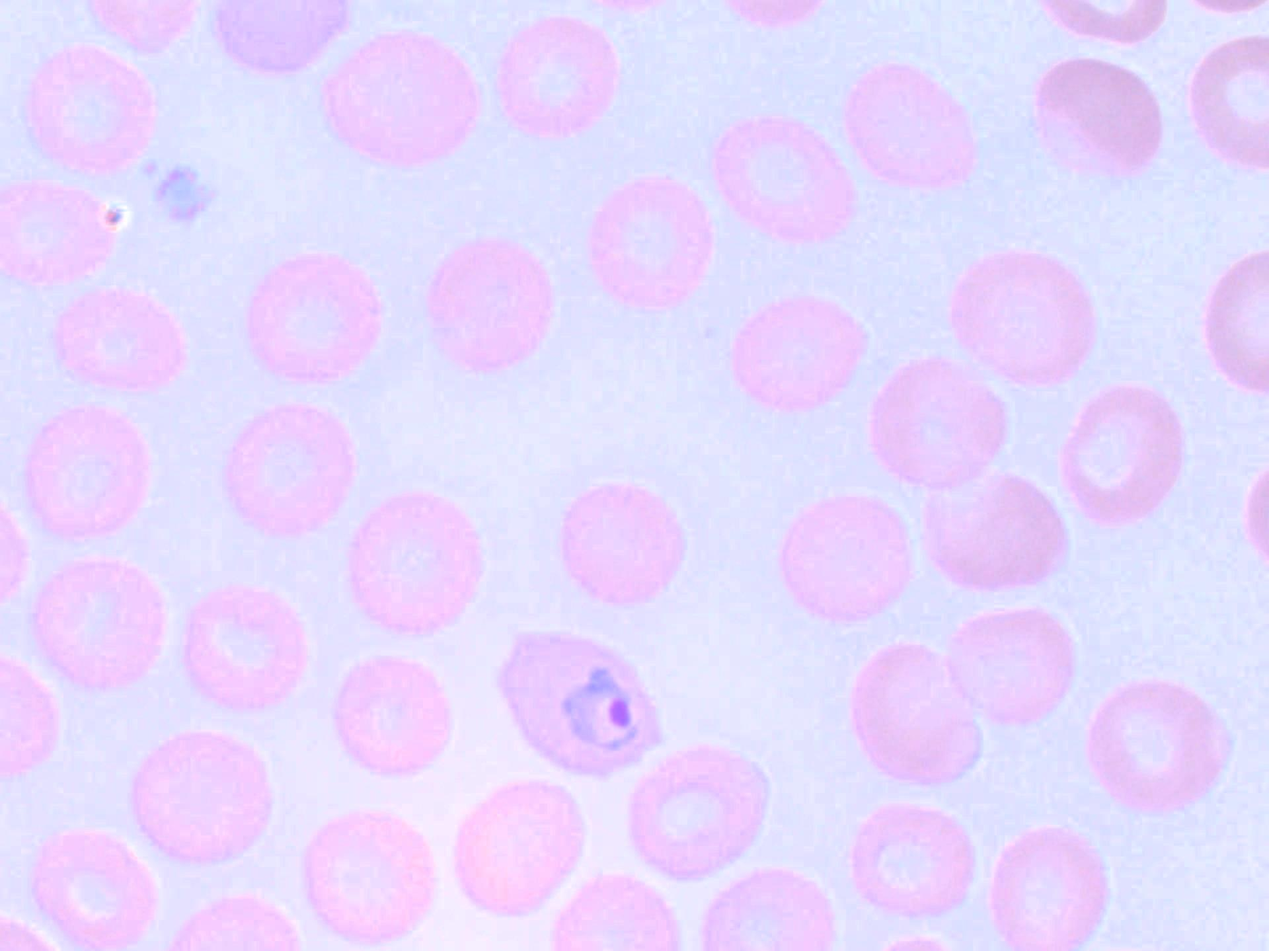Infected: (498, 628, 664, 779)
Uninfected: (326, 32, 480, 165), (872, 344, 1012, 484), (347, 492, 485, 632), (130, 730, 272, 864), (1082, 679, 1223, 813), (849, 643, 982, 784), (951, 250, 1091, 382), (30, 556, 166, 691), (712, 115, 857, 240), (629, 749, 767, 880), (582, 177, 715, 311), (23, 404, 152, 539), (1059, 386, 1186, 522), (227, 403, 357, 535), (302, 811, 434, 940), (426, 238, 553, 369), (182, 585, 311, 712), (247, 254, 378, 379), (845, 63, 977, 187), (456, 786, 581, 916), (26, 46, 154, 172), (924, 474, 1061, 591), (779, 496, 908, 620), (558, 483, 685, 606), (733, 295, 863, 411), (32, 828, 156, 948), (1036, 57, 1163, 174), (948, 609, 1072, 728), (334, 655, 456, 775), (849, 802, 974, 918), (55, 283, 184, 391), (498, 16, 616, 133), (989, 828, 1105, 946), (4, 178, 122, 285), (703, 869, 829, 949), (553, 874, 675, 950)
